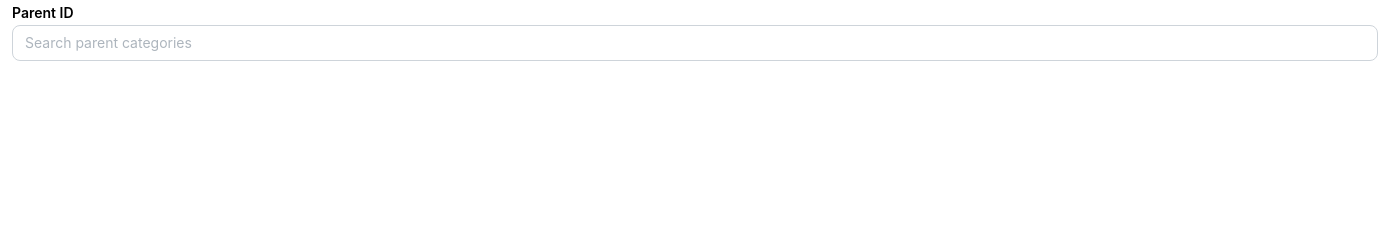
it: CategoryParentPicker › can load another page after reopening the parent list
Click the dropdown labelled "Parent ID".
click(695, 43)  # box [12,25,1378,61]
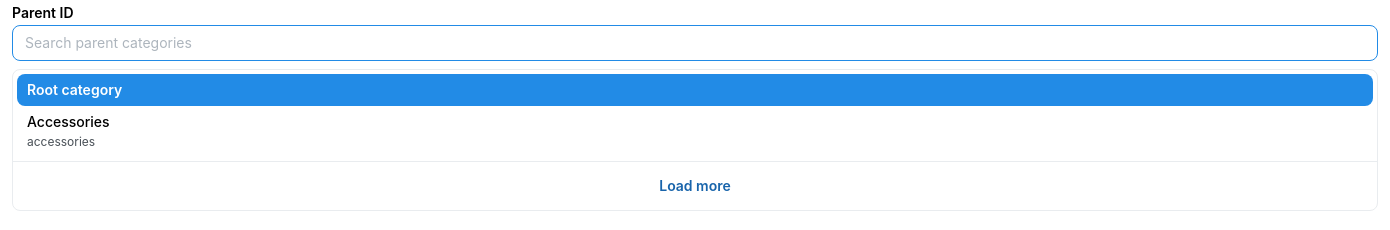
Expected: the button "Load more" is shown, [23,168,1367,204]
Press Escape
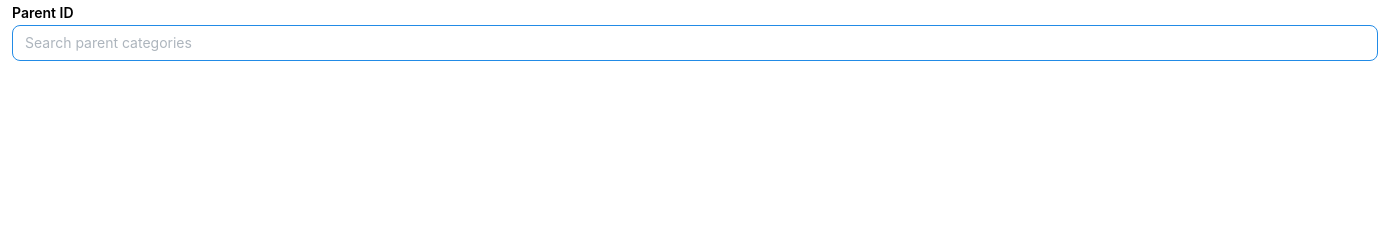
Click the dropdown labelled "Parent ID".
click(695, 43)  # box [12,25,1378,61]
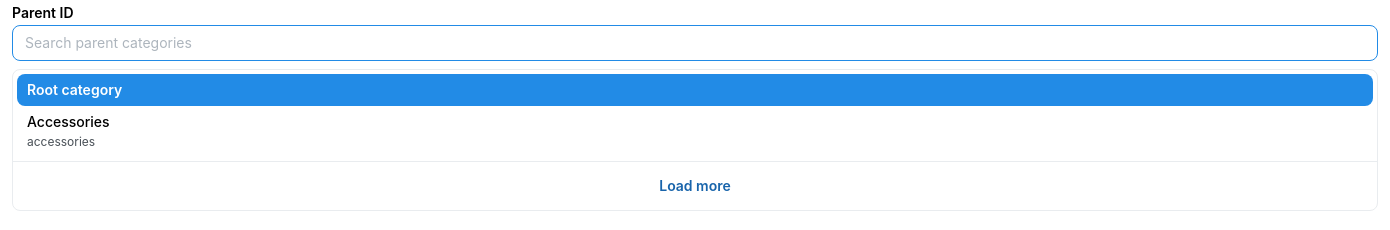
Click the button "Load more".
click(695, 186)  # box [23,168,1367,204]
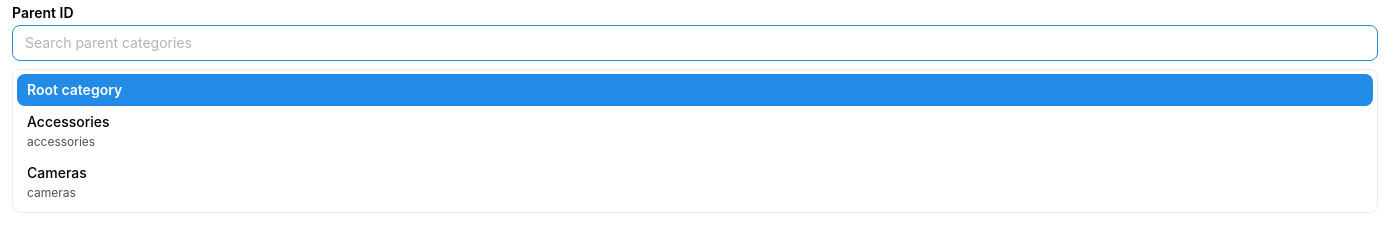
Expected: the option "Cameras cameras" is shown, [27,164,87,200]
